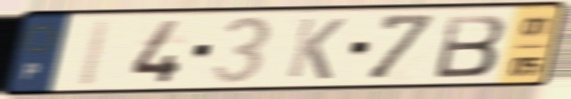3: (211, 13, 278, 87)
4: (127, 17, 184, 86)
7: (369, 12, 439, 84)
B: (431, 12, 509, 80)
I: (72, 16, 117, 89)
K: (283, 15, 350, 82)
